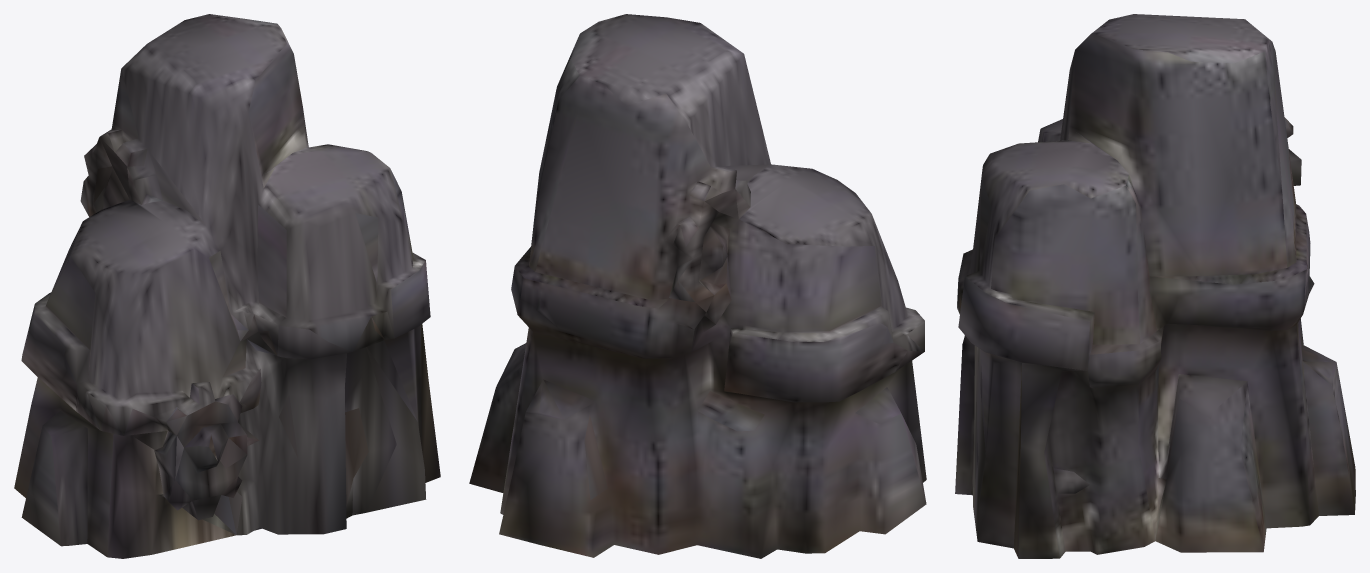
The model's file is prop_boulders.glb.
3 renders of one model, left to right at view 1: azimuth 30°, elevation 25°; view 2: azimuth 150°, elevation 25°; view 3: azimuth 270°, elevation 25°, orthographic. The views are drawn at different scales.
Parts seen in each view (by area): view 1: Mesh_0; view 2: Mesh_0; view 3: Mesh_0.
Part boxes in pixels (x1,y1,x2,y2): Mesh_0: (14, 14, 440, 558); Mesh_0: (469, 14, 926, 558); Mesh_0: (955, 14, 1355, 558).
Size of the model in its own units: 1.77 by 2 by 1.58.
1 material, 1 textured.
